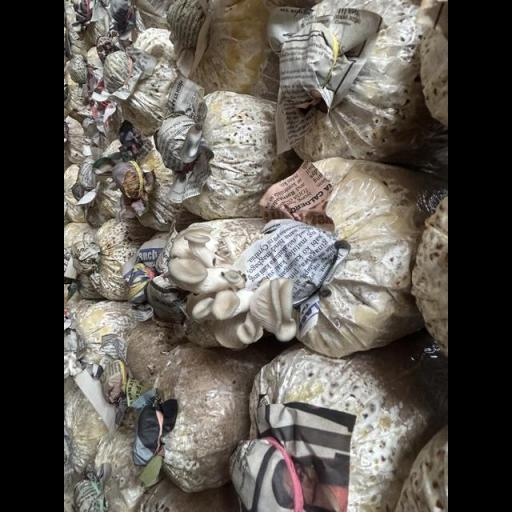White Oyster Mushroom: (148, 219, 304, 354)
